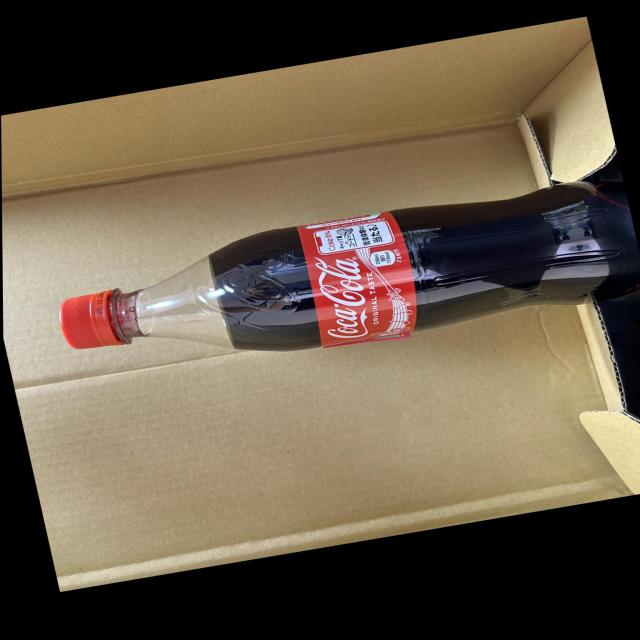high: (60, 181, 640, 350)
